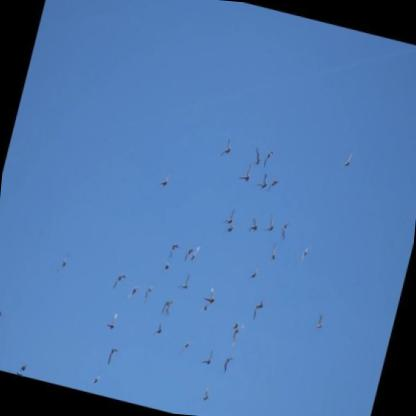bird: (228, 322, 244, 355), (177, 332, 195, 359), (250, 297, 267, 324), (297, 241, 314, 267), (222, 205, 240, 229), (265, 238, 281, 264), (142, 279, 157, 306), (202, 284, 219, 307), (198, 346, 215, 369), (278, 218, 293, 244), (239, 161, 256, 183), (219, 136, 235, 159), (157, 168, 173, 191), (177, 271, 193, 294), (57, 249, 73, 272), (112, 270, 127, 293), (255, 171, 271, 192), (106, 344, 120, 368), (341, 146, 354, 171), (263, 213, 277, 236), (188, 241, 202, 264), (313, 311, 327, 333), (220, 353, 234, 375), (125, 282, 141, 301), (245, 216, 260, 236), (267, 176, 281, 197), (105, 310, 119, 331), (251, 147, 264, 169), (168, 241, 182, 261), (182, 245, 194, 268), (159, 296, 171, 319), (152, 320, 166, 339), (163, 296, 175, 318), (262, 147, 274, 168), (247, 265, 260, 284), (17, 360, 31, 377), (229, 317, 242, 334), (160, 259, 173, 275), (90, 372, 102, 389), (222, 223, 234, 238), (201, 387, 212, 403), (201, 301, 211, 317), (0, 300, 5, 320)
